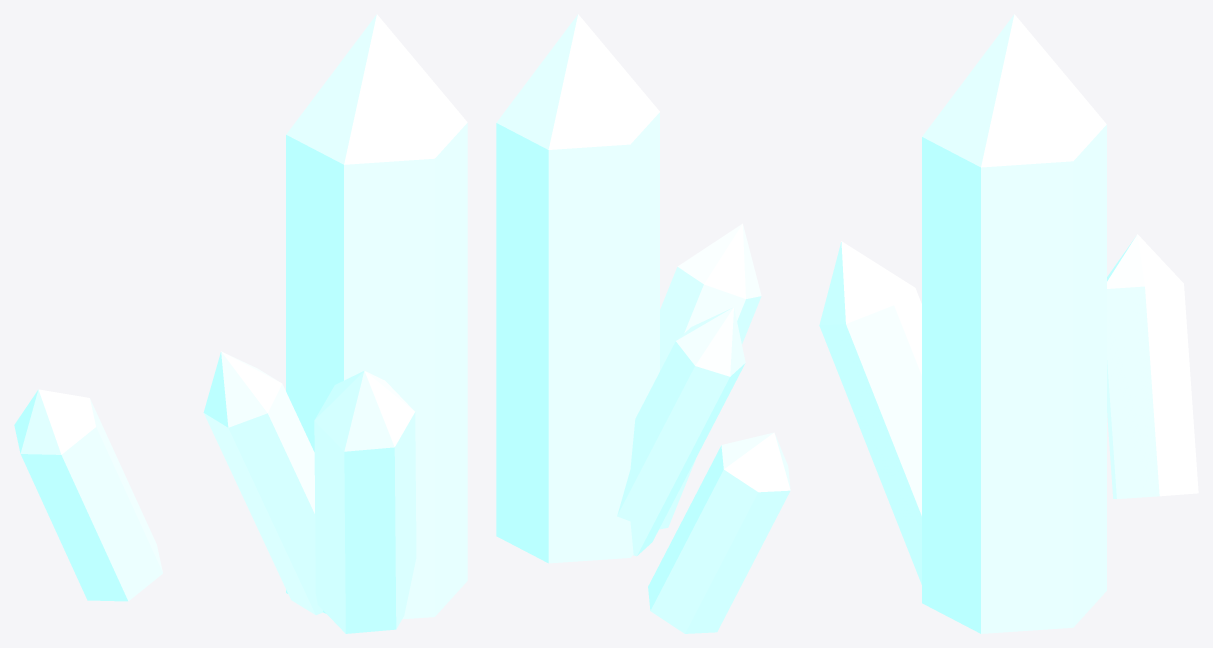
Rendered from ore_crystal.glb.
3 renders of one model, left to right at view 1: azimuth 30°, elevation 25°; view 2: azimuth 150°, elevation 25°; view 3: azimuth 270°, elevation 25°, orthographic. The views are drawn at different scales.
Parts seen in each view (by area): view 1: ore_crystal; view 2: ore_crystal; view 3: ore_crystal.
Boxes of the visible parts, left/top/right/bottom form: ore_crystal: left=14, top=14, right=467, bottom=633; ore_crystal: left=496, top=14, right=790, bottom=633; ore_crystal: left=819, top=14, right=1198, bottom=633.
Size of the model in its own units: 0.2604 by 0.3911 by 0.227.
